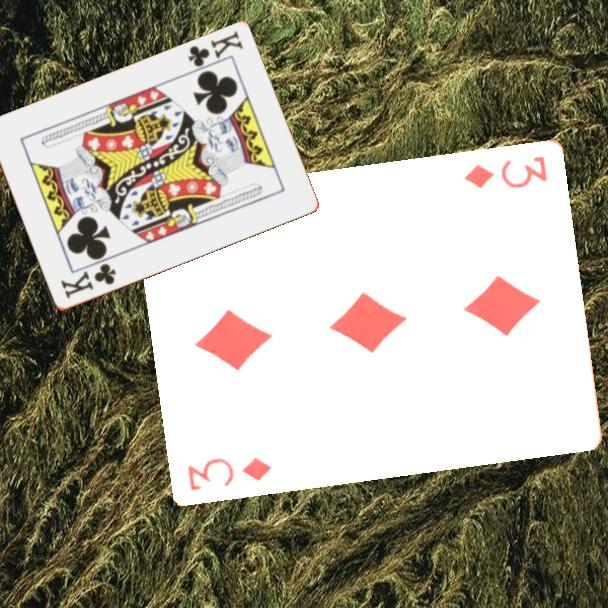c13: (184, 27, 246, 70), (57, 260, 119, 302)
d03: (185, 453, 275, 493), (461, 152, 550, 191)
